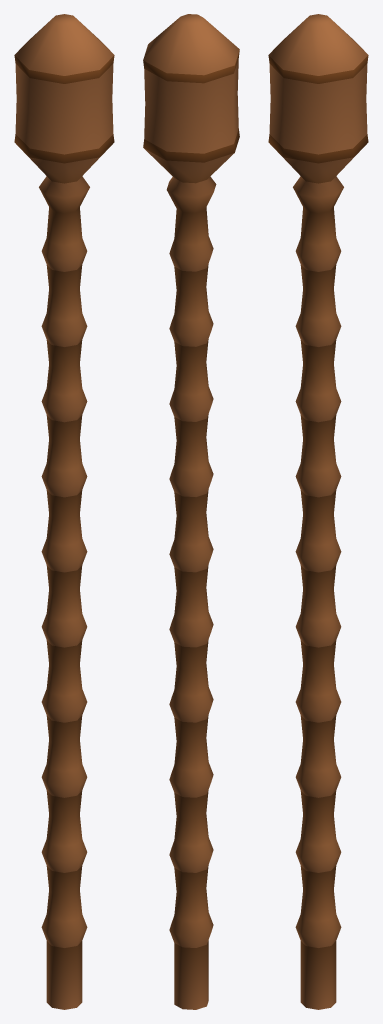
File: TikiTorch1.fbx
The picture shows the model from 3 angles, left to right: view 1: azimuth 90°, elevation 25°; view 2: azimuth 150°, elevation 25°; view 3: azimuth 270°, elevation 25°; orthographic projection.
Visible parts, largest first — view 1: Circle; view 2: Circle; view 3: Circle.
Part boxes in pixels (left/top/right/bottom): Circle: left=14, top=14, right=114, bottom=1009; Circle: left=143, top=14, right=239, bottom=1009; Circle: left=268, top=14, right=368, bottom=1009.
Size of the model in its own units: 21.99 by 238 by 21.99.
